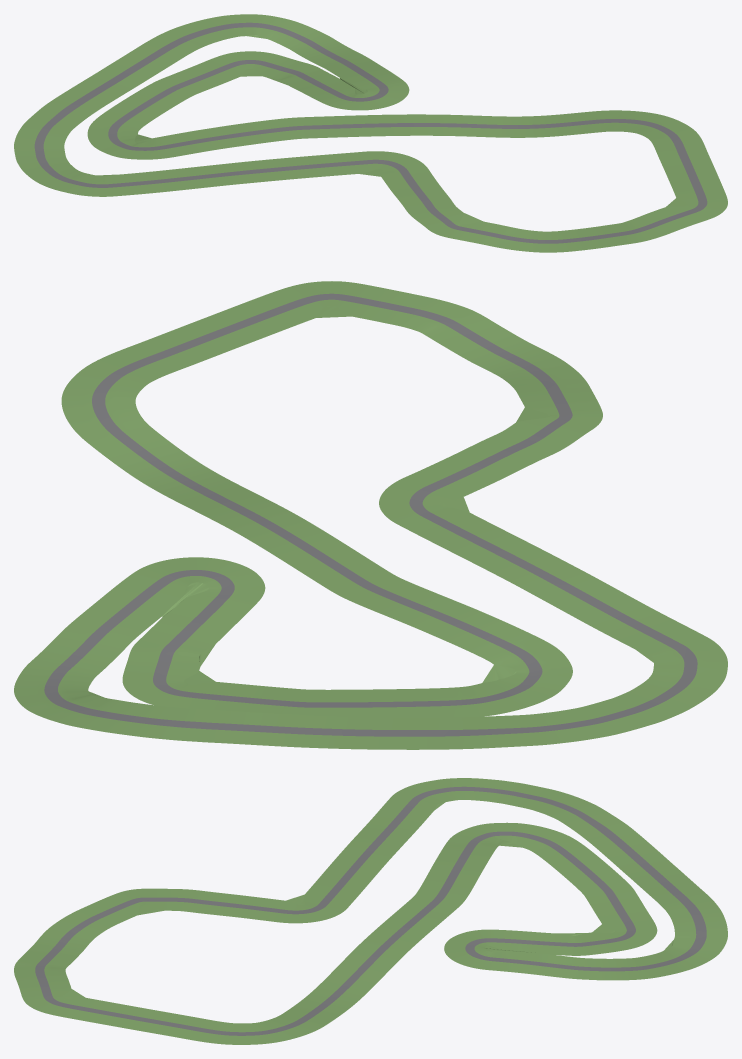
File: road_mesh.glb
3 renders of one model, top to bottom at view 1: azimuth 30°, elevation 25°; view 2: azimuth 150°, elevation 25°; view 3: azimuth 270°, elevation 25°, orthographic. The views are drawn at different scales.
Visible parts, largest first — view 1: road_21, road_13, road_07, road_00, road_17, road_16, road_14, road_09, road_08, road_04, road_01, road_15 (+10 smaller); view 2: road_02, road_03, road_10, road_06, road_13, road_11, road_12, road_21, road_19, road_07, road_17, road_18 (+10 smaller); view 3: road_00, road_09, road_05, road_14, road_15, road_01, road_20, road_04, road_12, road_02, road_21, road_16 (+10 smaller).
Part boxes in pixels (left/top/right/bottom): road_21: left=72, top=45, right=183, bottom=99; road_13: left=568, top=207, right=696, bottom=250; road_07: left=163, top=118, right=293, bottom=156; road_00: left=142, top=14, right=266, bottom=56; road_17: left=191, top=156, right=320, bottom=188; road_16: left=312, top=151, right=433, bottom=183; road_14: left=438, top=221, right=577, bottom=252; road_09: left=407, top=114, right=533, bottom=137; road_08: left=282, top=114, right=410, bottom=139; road_04: left=175, top=51, right=304, bottom=88; road_01: left=258, top=14, right=365, bottom=67; road_15: left=386, top=177, right=483, bottom=234; road_02: left=68, top=557, right=244, bottom=640; road_03: left=129, top=566, right=265, bottom=666; road_10: left=61, top=395, right=203, bottom=482; road_06: left=446, top=635, right=572, bottom=717; road_13: left=350, top=287, right=531, bottom=364; road_11: left=62, top=323, right=237, bottom=398; road_12: left=191, top=281, right=378, bottom=347; road_21: left=214, top=710, right=400, bottom=749; road_19: left=562, top=667, right=727, bottom=739; road_07: left=351, top=580, right=534, bottom=657; road_17: left=450, top=531, right=622, bottom=612; road_18: left=567, top=592, right=727, bottom=668; road_00: left=657, top=892, right=727, bottom=957; road_09: left=311, top=939, right=411, bottom=1002; road_05: left=540, top=845, right=639, bottom=905; road_14: left=36, top=889, right=142, bottom=948; road_15: left=132, top=888, right=267, bottom=919; road_01: left=576, top=946, right=713, bottom=980; road_20: left=541, top=795, right=649, bottom=854; road_04: left=578, top=899, right=657, bottom=954; road_12: left=20, top=989, right=151, bottom=1029; road_02: left=444, top=943, right=576, bottom=978; road_21: left=603, top=844, right=704, bottom=901; road_16: left=256, top=879, right=366, bottom=923.
Size of the model in its own units: 908 by 31.69 by 1010.
